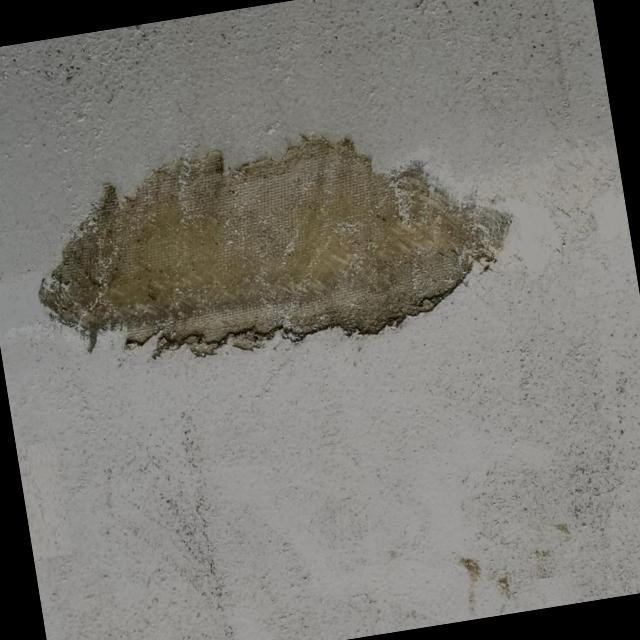surface_peeling: (11, 105, 530, 395)
